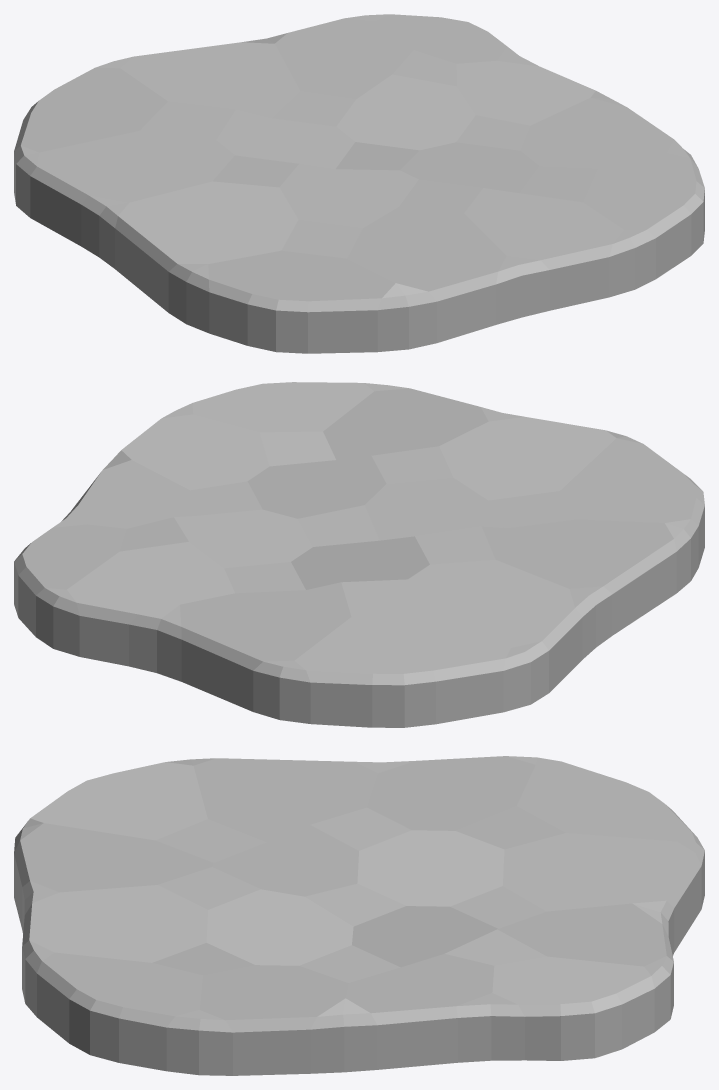
The model's file is PathStone_1.fbx.
3 renders of one model, top to bottom at view 1: azimuth 30°, elevation 25°; view 2: azimuth 150°, elevation 25°; view 3: azimuth 270°, elevation 25°, orthographic. The views are drawn at different scales.
Parts seen in each view (by area): view 1: PathStone_1; view 2: PathStone_1; view 3: PathStone_1.
Boxes of the visible parts, x1,y1,x2,y2 form: PathStone_1: (14,14,704,353); PathStone_1: (14,382,704,727); PathStone_1: (14,756,704,1075).
Bounding box in the file's own units: 11 × 1.19 × 11.88.
